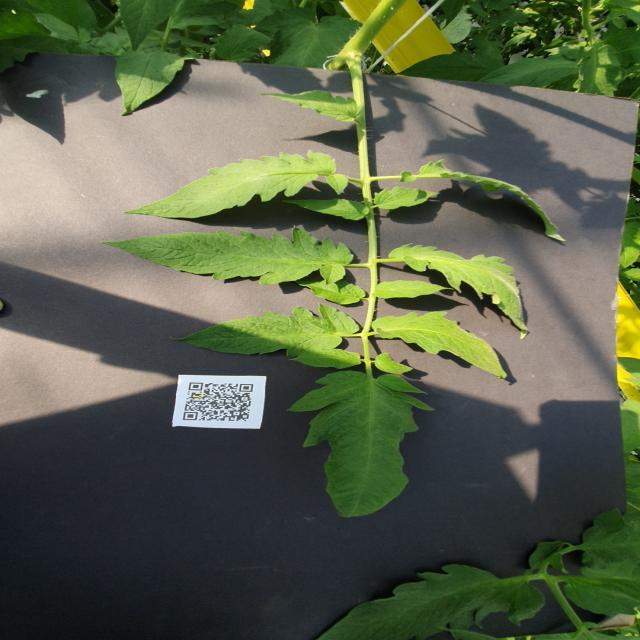Tomato healthy leaf: (284, 371, 438, 519), (318, 563, 547, 640), (126, 148, 347, 222), (98, 224, 358, 286), (388, 243, 531, 340), (168, 302, 362, 358), (371, 310, 508, 382), (113, 46, 195, 116), (387, 50, 504, 82), (114, 0, 186, 51), (260, 90, 364, 122), (476, 56, 582, 87), (214, 23, 274, 63), (280, 198, 370, 222), (292, 278, 368, 306), (374, 278, 456, 300), (372, 186, 442, 210), (286, 348, 361, 370), (374, 350, 414, 376)
